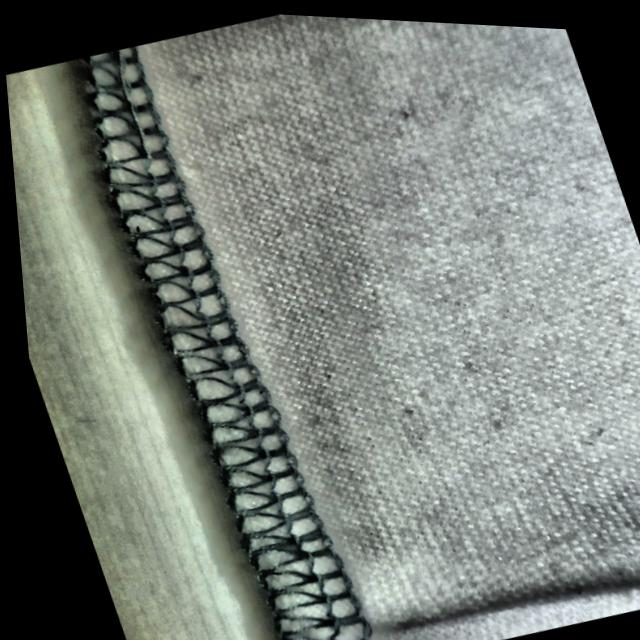seam: (240, 490, 610, 640)
